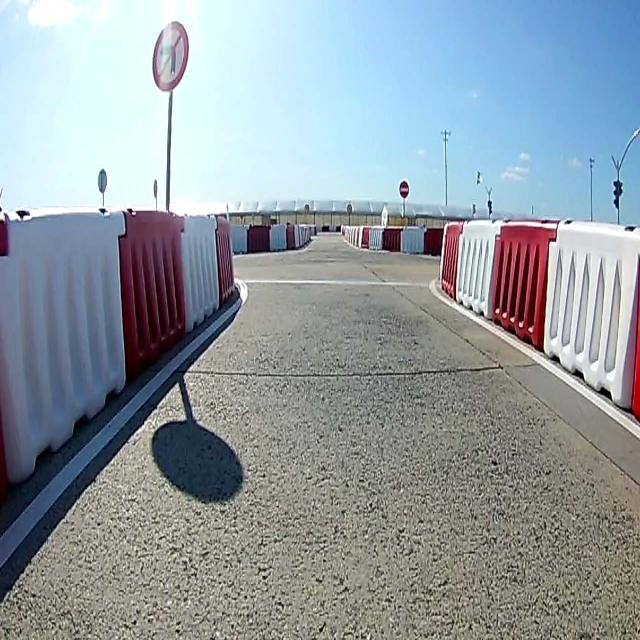girisyok: (399, 180, 409, 198)
soladonulmez: (152, 21, 188, 92)
